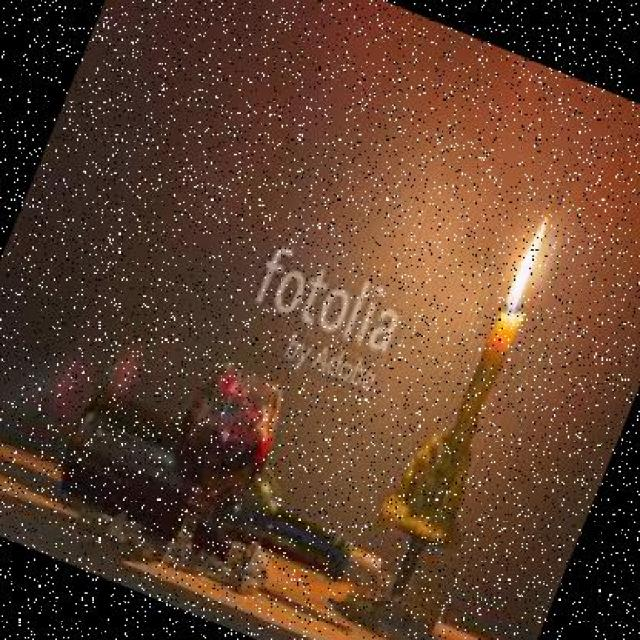fire: (482, 202, 569, 323)
